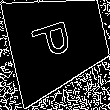P_E: (33, 18, 83, 67)
